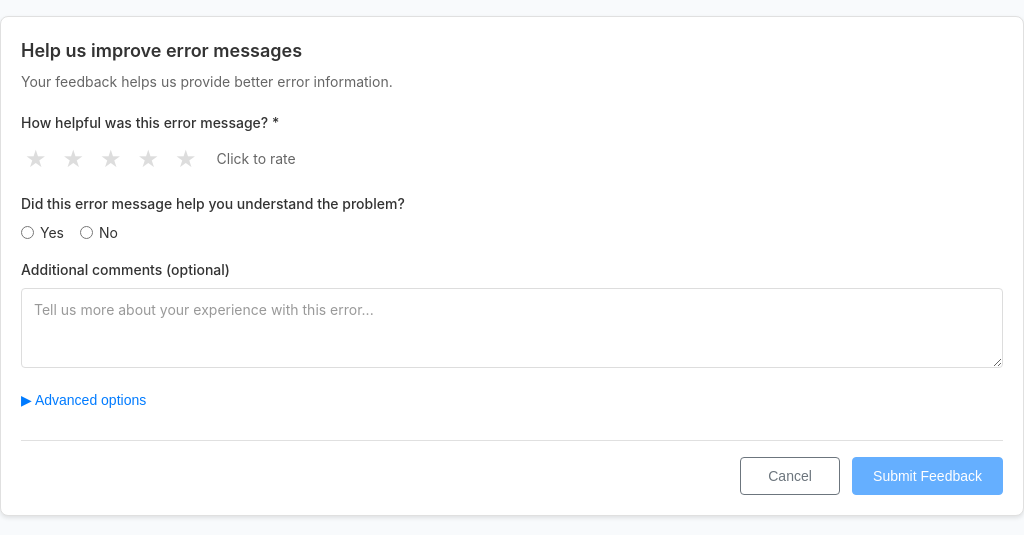
Test: ErrorFeedback › Rating Interaction › should update rating when star is clicked
The image size is (1024, 535).
Click the button named "Rate 3 stars".
click(111, 159)  # box [96,141,126,177]
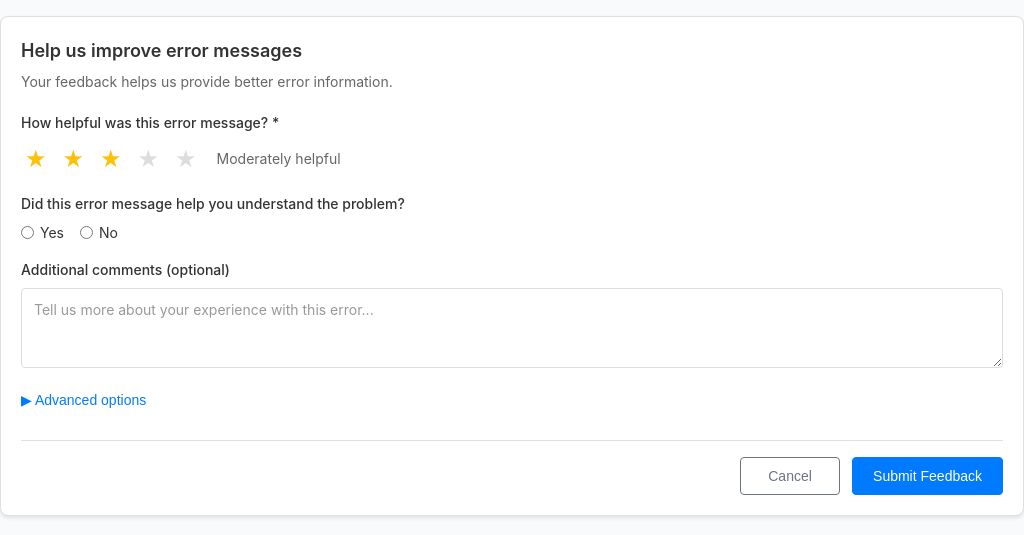
Expected: the text "Moderately helpful" is shown, [217,148,341,169]
